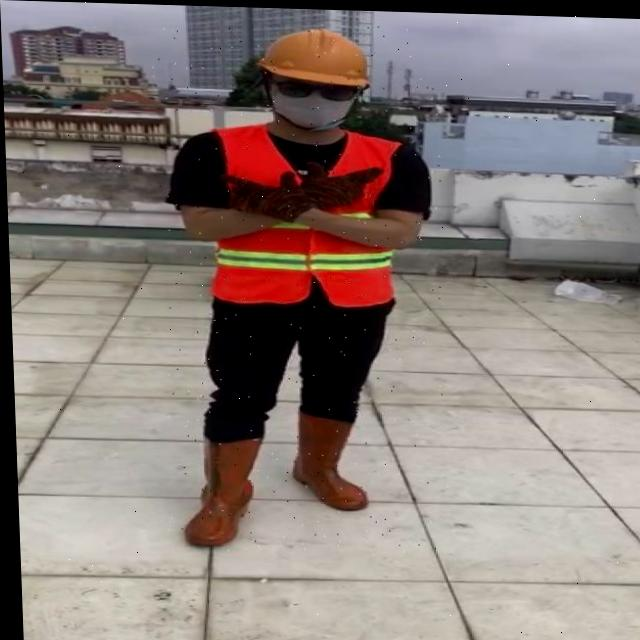No-Glove: (217, 156, 384, 224)
Safety-Boot: (177, 431, 263, 547), (288, 405, 365, 509)
Safety-Vest: (203, 121, 406, 308)
